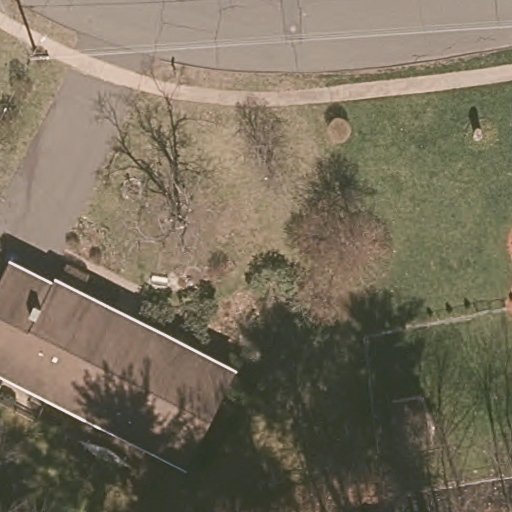DT: (24, 40, 48, 68)
